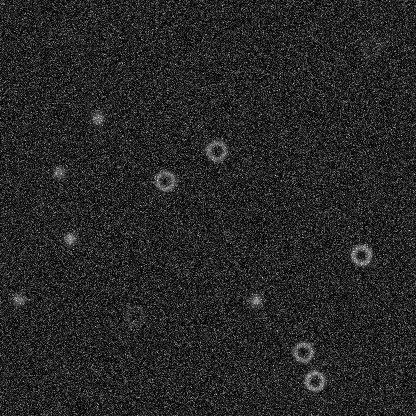Ring: (122, 303, 146, 327), (204, 138, 228, 162), (153, 168, 177, 192), (349, 242, 373, 266), (291, 339, 315, 363), (302, 368, 326, 392), (358, 35, 382, 59)
Spot: (89, 110, 105, 126), (50, 164, 66, 180), (10, 292, 26, 308), (61, 230, 77, 246), (247, 292, 263, 308)
